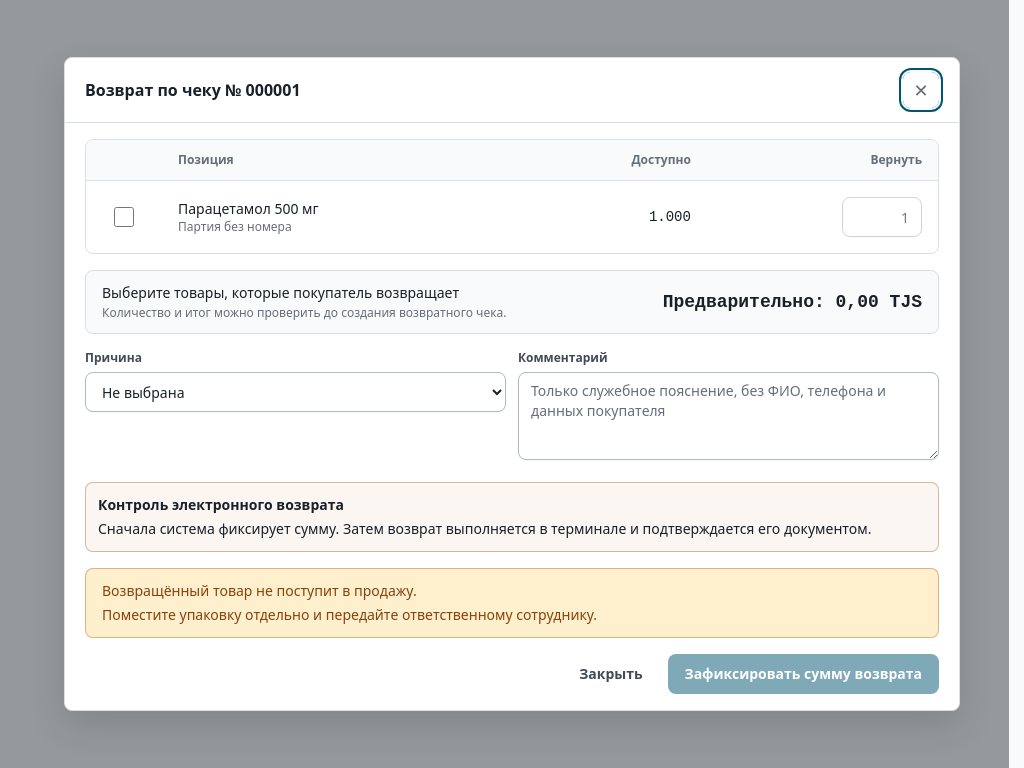
Scenario: RefundModal › blocks submission when the recovery marker cannot be persisted
Click the checkbox named "Вернуть Парацетамол 500 мг". click: x=124, y=217
box: left=114, top=207, right=134, bottom=227
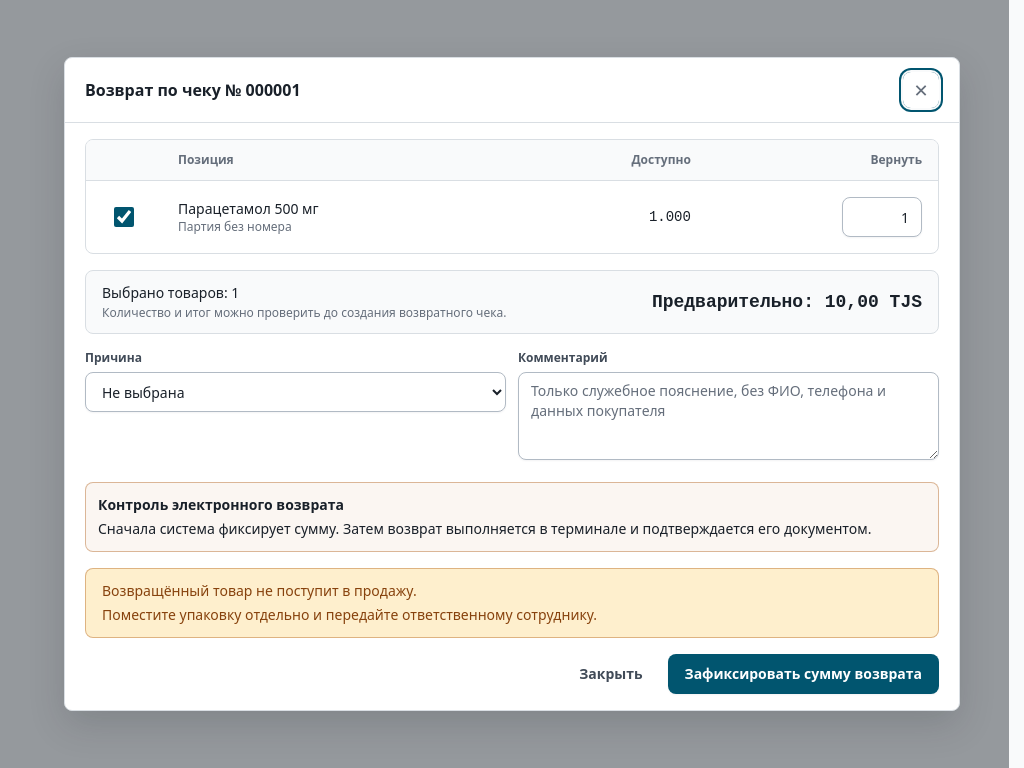
Click the button "Зафиксировать сумму возврата". click: x=803, y=674
box: left=668, top=654, right=939, bottom=694
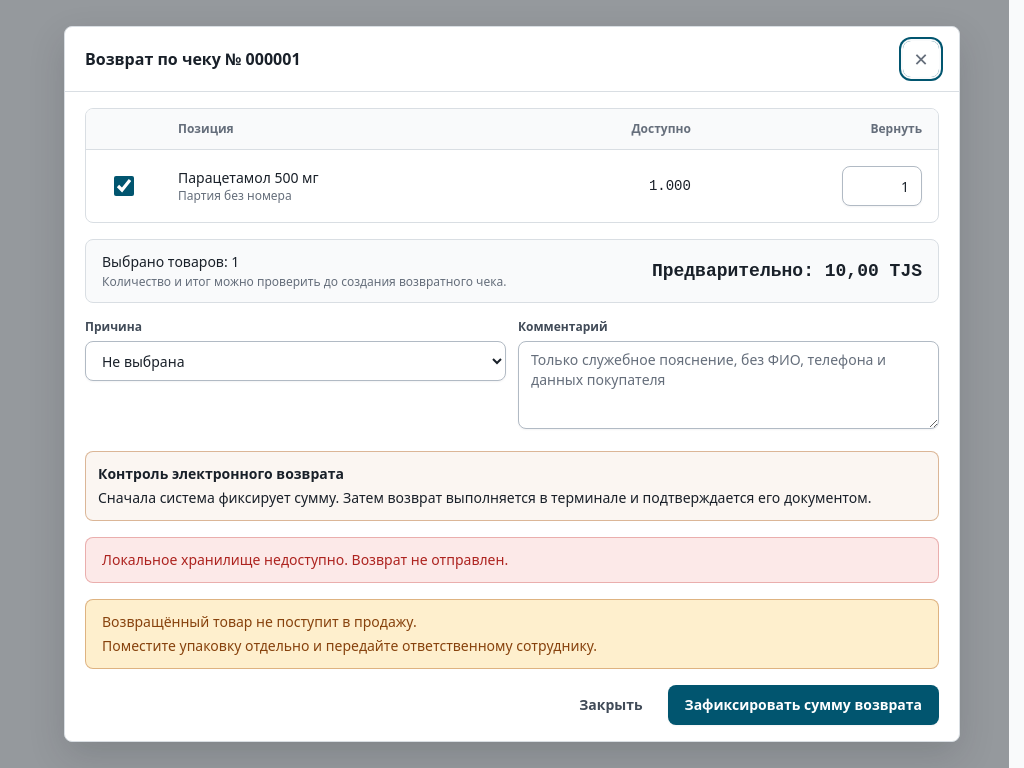
Check: the text "Локальное хранилище недоступно. Возврат не отправлен." is shown, box left=85, top=537, right=939, bottom=583
